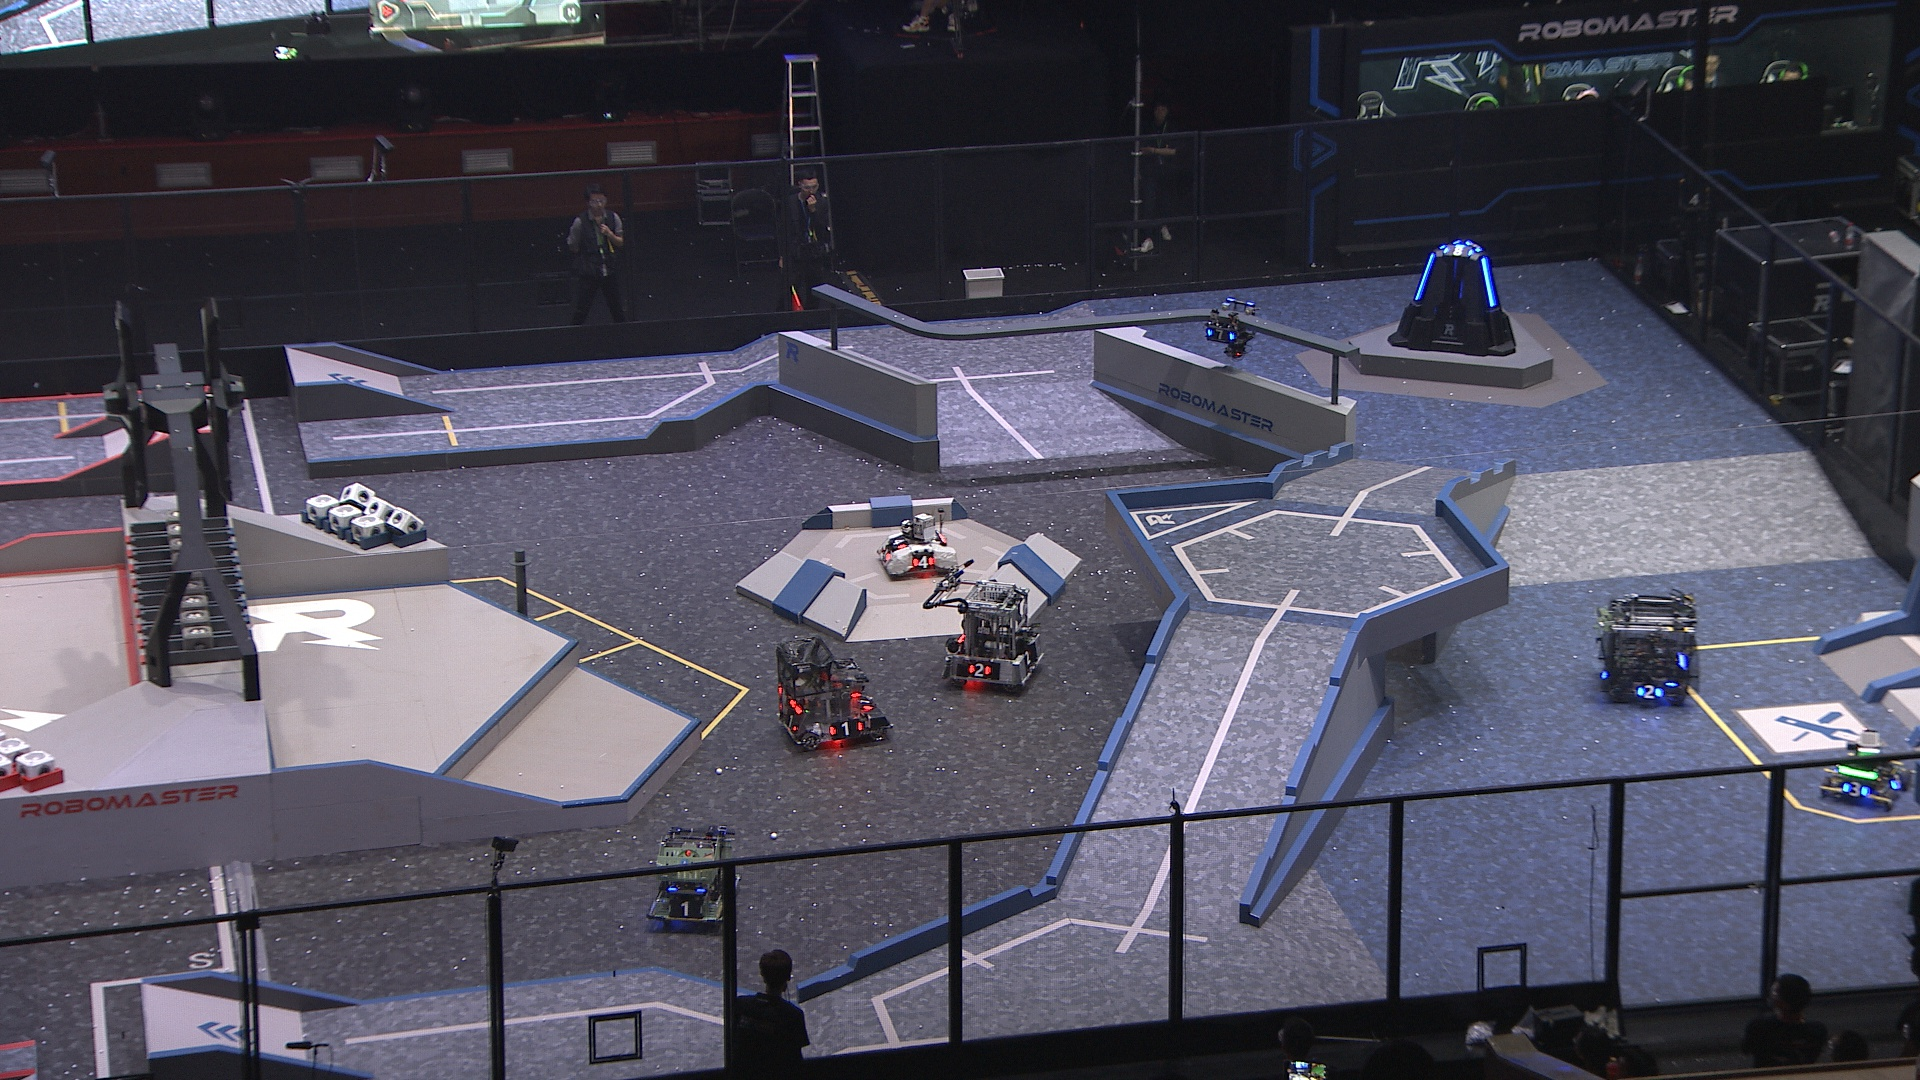armor: (1414, 253, 1436, 306), (1481, 258, 1501, 309), (666, 895, 703, 920), (828, 717, 865, 738), (1634, 680, 1665, 703), (1441, 243, 1476, 258), (1207, 327, 1237, 344), (965, 661, 992, 679), (911, 553, 938, 570), (1844, 782, 1869, 798), (855, 694, 874, 711), (782, 713, 798, 735), (1890, 774, 1905, 794), (889, 534, 909, 550), (1021, 647, 1035, 669)
base: (1389, 240, 1518, 357)
car: (774, 637, 891, 754), (940, 583, 1048, 698), (1596, 589, 1695, 708), (645, 825, 741, 928), (1820, 731, 1912, 812), (876, 508, 960, 580)
watcher: (1203, 295, 1262, 357)
